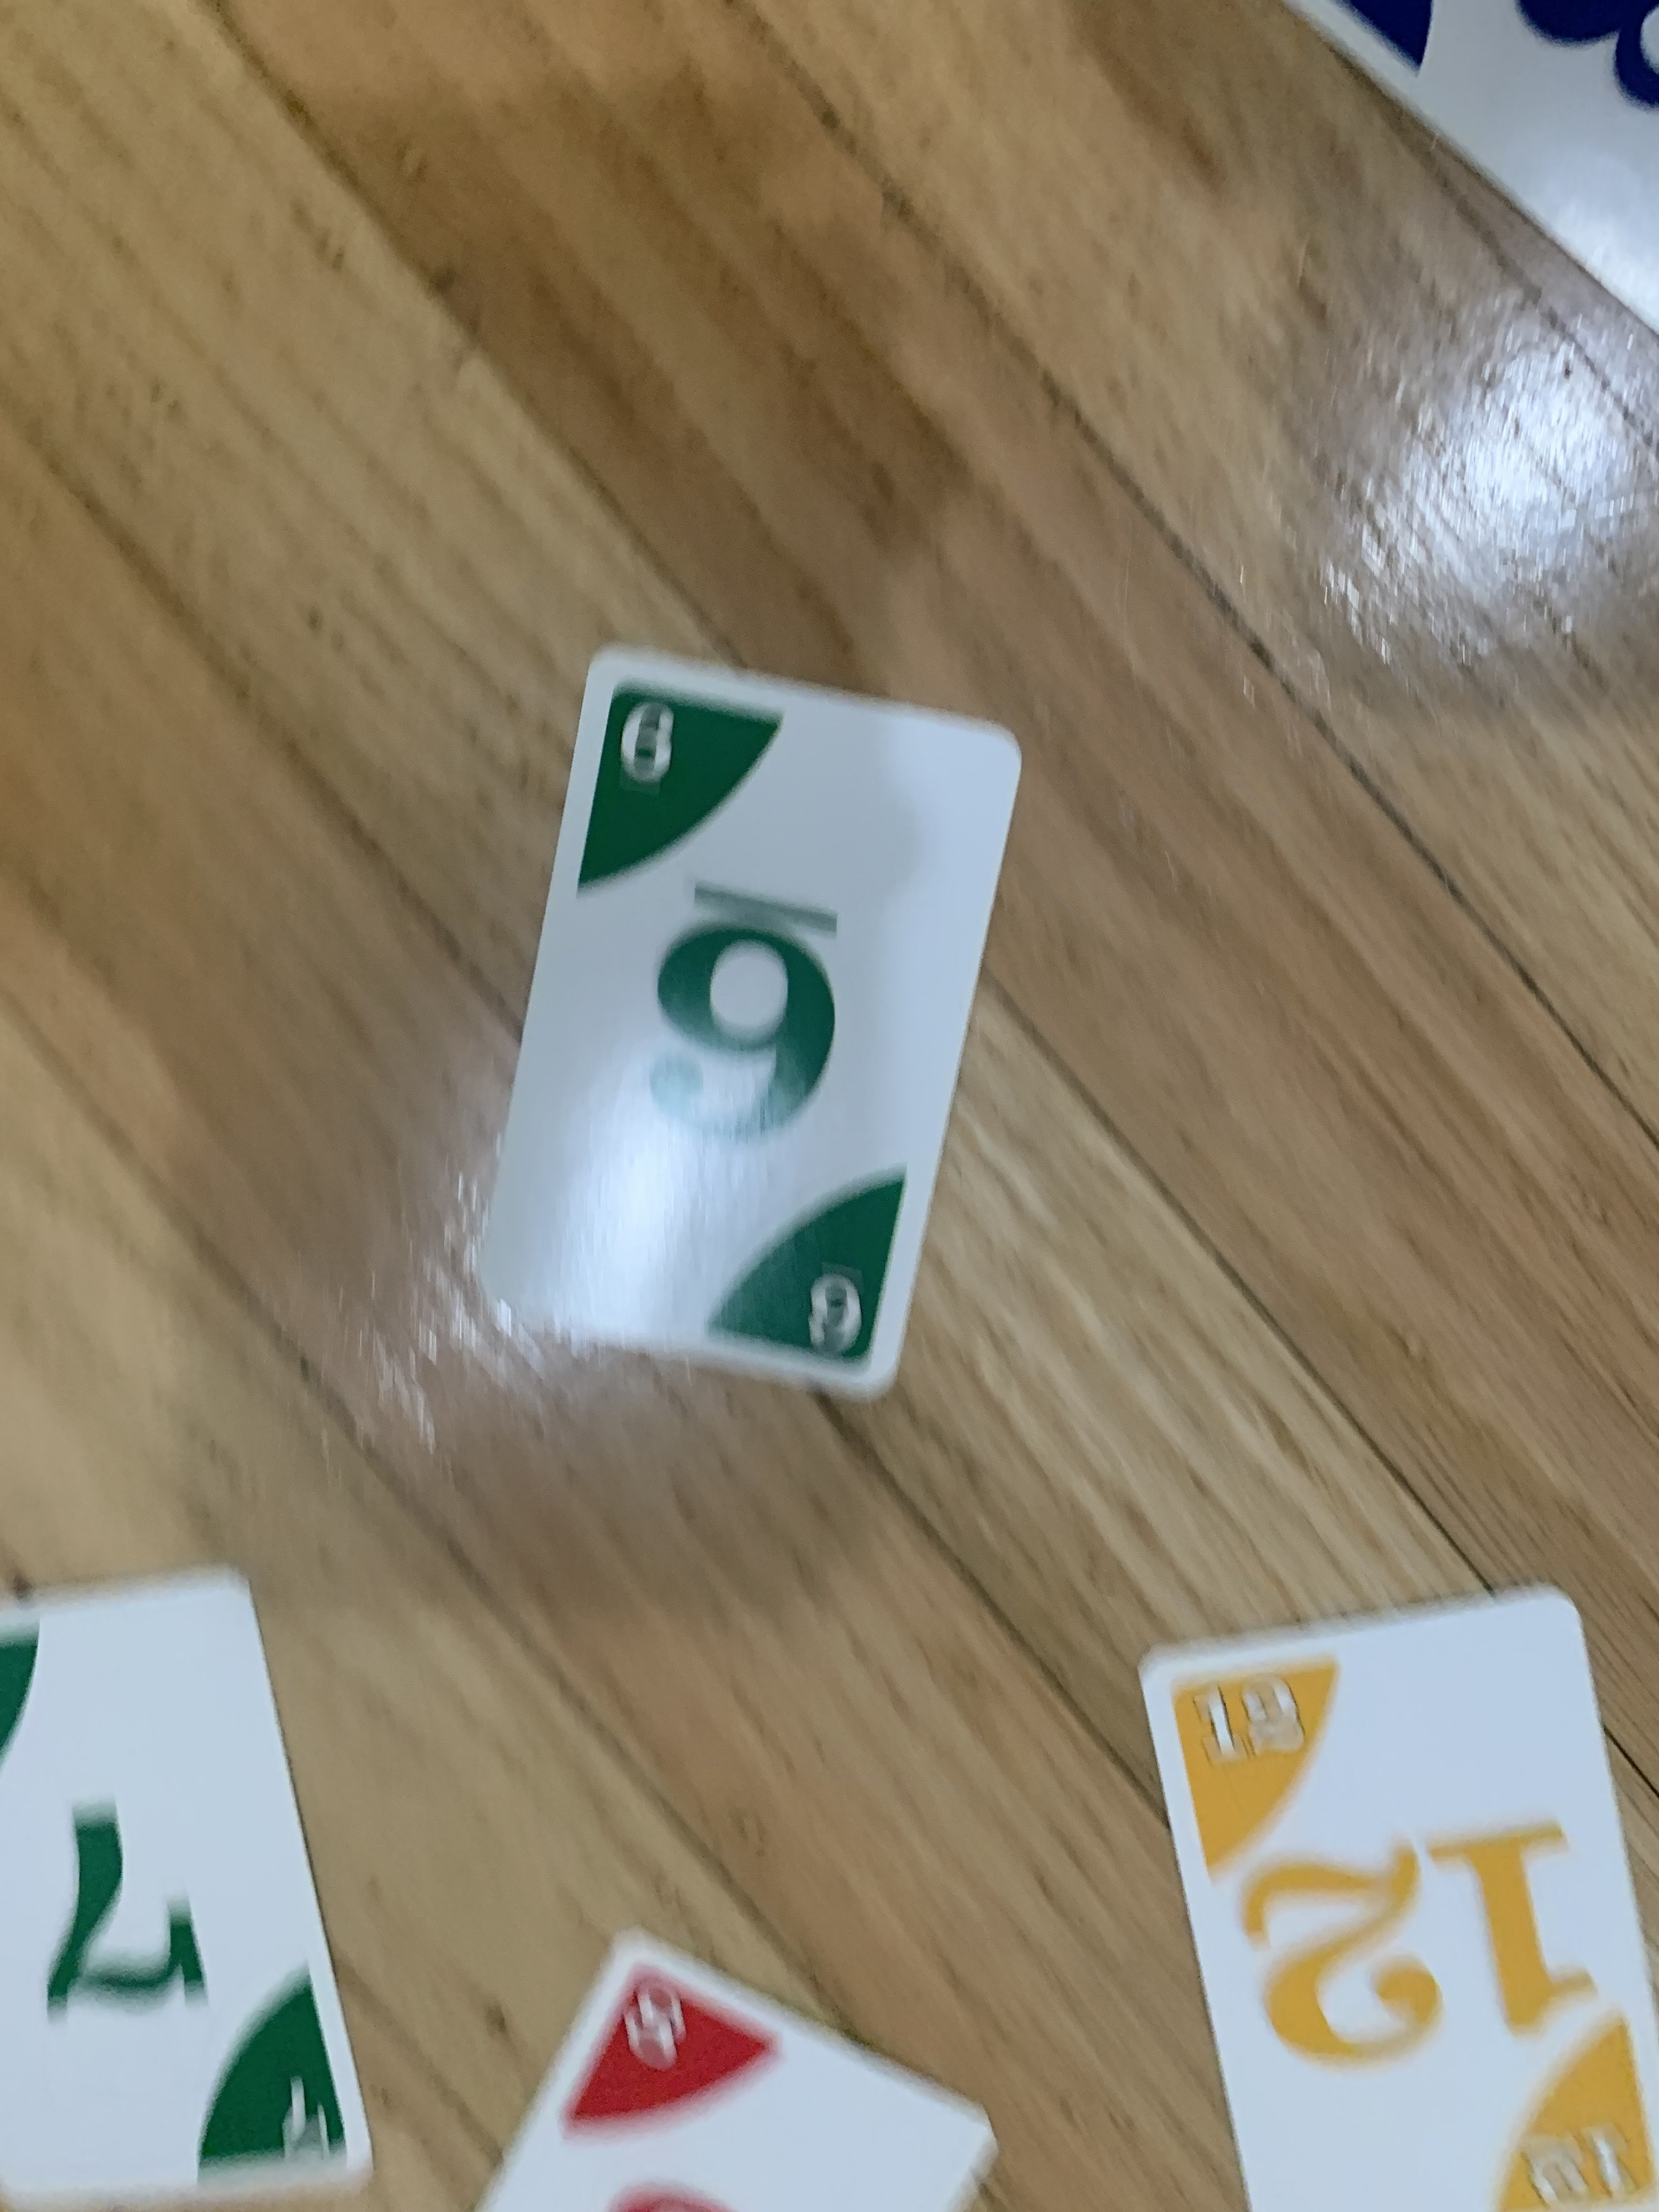six: (439, 617, 1044, 1418)
twelve: (1126, 1562, 1659, 2198)
